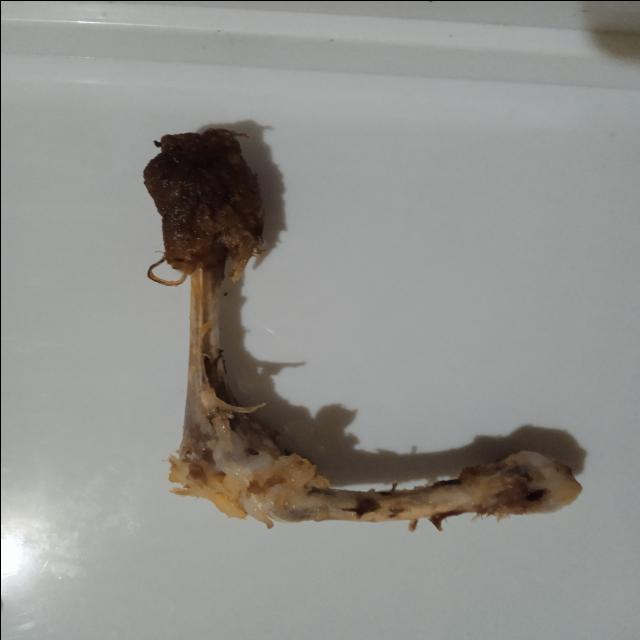bone: (130, 121, 590, 536)
